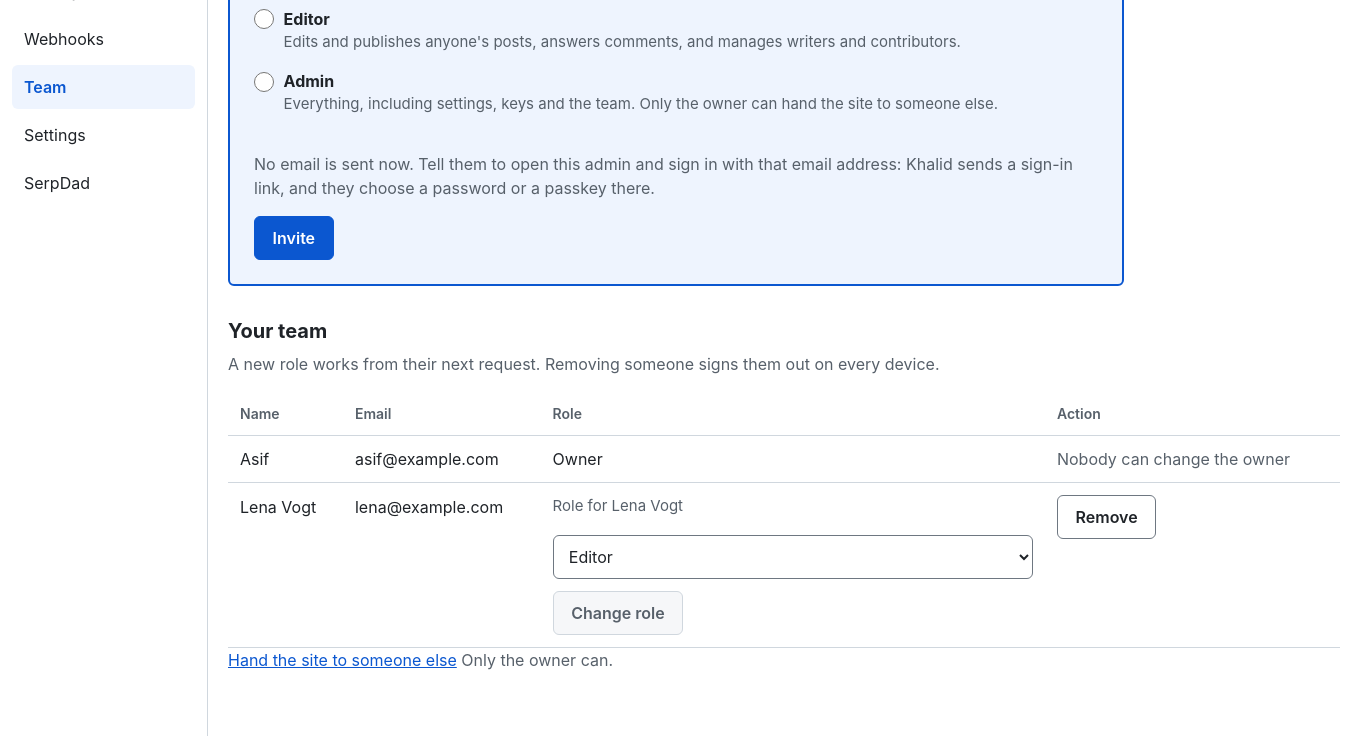
the Team screen › removes someone, and they leave the list
(page scrolled)
Click the button "Remove" at (1107, 516), box [1057, 494, 1156, 538]
(page scrolled)
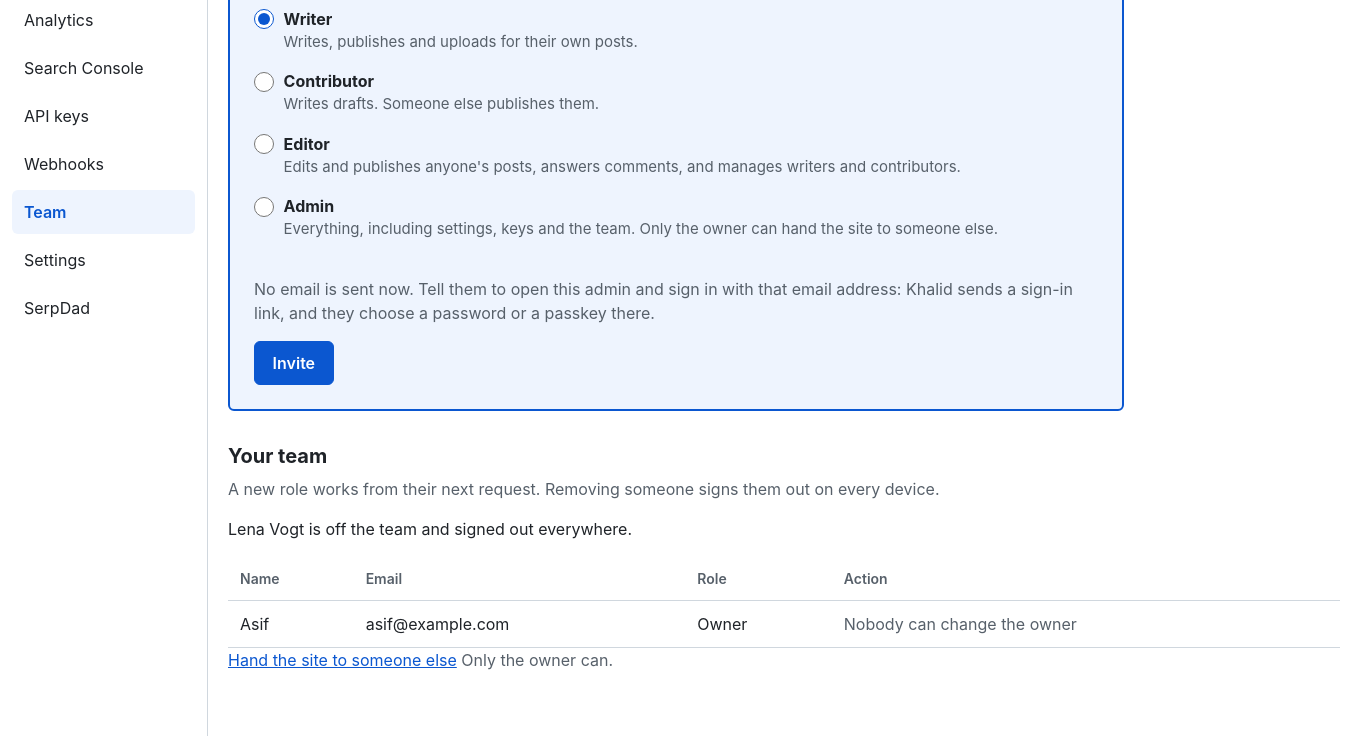
expect the text "lena@example.com" is gone: met
